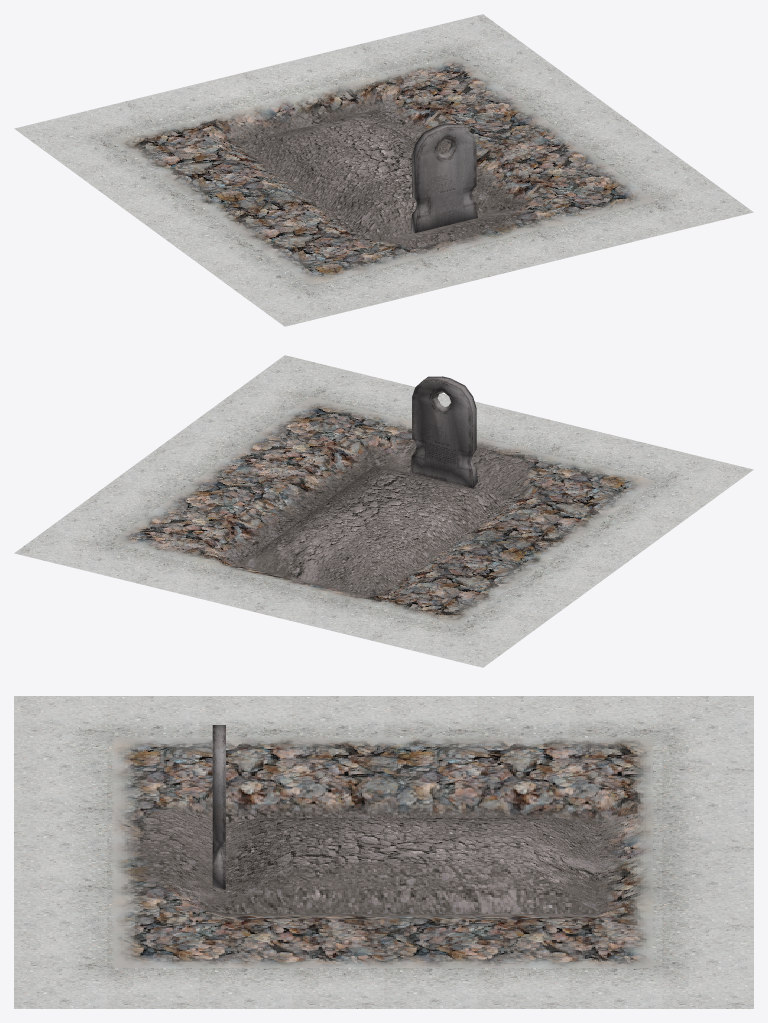
The model's file is graveyardGround.glb.
The picture shows the model from 3 angles, top to bottom: view 1: azimuth 30°, elevation 25°; view 2: azimuth 150°, elevation 25°; view 3: azimuth 270°, elevation 25°; orthographic projection. The views are drawn at different scales.
Visible parts, largest first — view 1: Ground, Grave; view 2: Ground, Grave; view 3: Ground, Grave.
Boxes of the visible parts, left/top/right/bottom form: Ground: left=14, top=14, right=753, bottom=326; Grave: left=410, top=123, right=477, bottom=233; Ground: left=14, top=355, right=753, bottom=667; Grave: left=410, top=376, right=477, bottom=488; Ground: left=14, top=696, right=753, bottom=1008; Grave: left=212, top=725, right=225, bottom=889.
Size of the model in its own units: 6 by 1.23 by 6.
2 materials, 2 textured.
